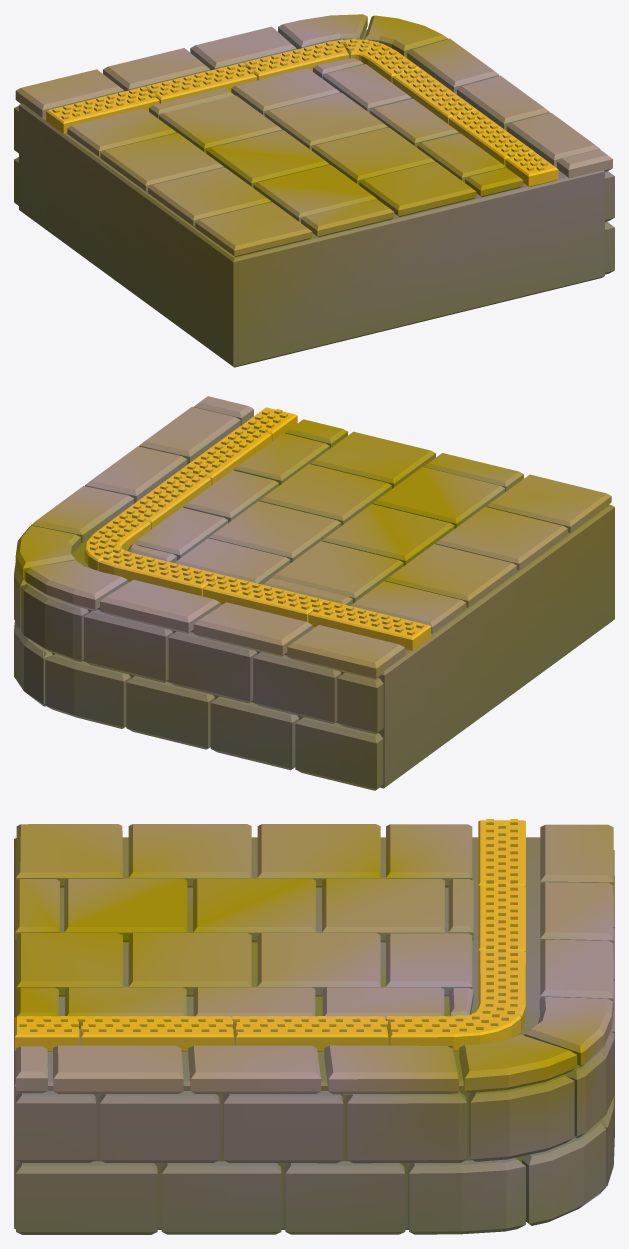
The model's file is Platform_Corner_End.glb.
3 renders of one model, top to bottom at view 1: azimuth 30°, elevation 25°; view 2: azimuth 150°, elevation 25°; view 3: azimuth 270°, elevation 25°, orthographic. The views are drawn at different scales.
Parts seen in each view (by area): view 1: Platform_Corner_End; view 2: Platform_Corner_End; view 3: Platform_Corner_End.
Boxes of the visible parts, <box> form: Platform_Corner_End: <box>14,14,614,367</box>; Platform_Corner_End: <box>14,396,614,790</box>; Platform_Corner_End: <box>14,819,614,1234</box>.
Size of the model in its own units: 3.5 by 1.08 by 3.5.
